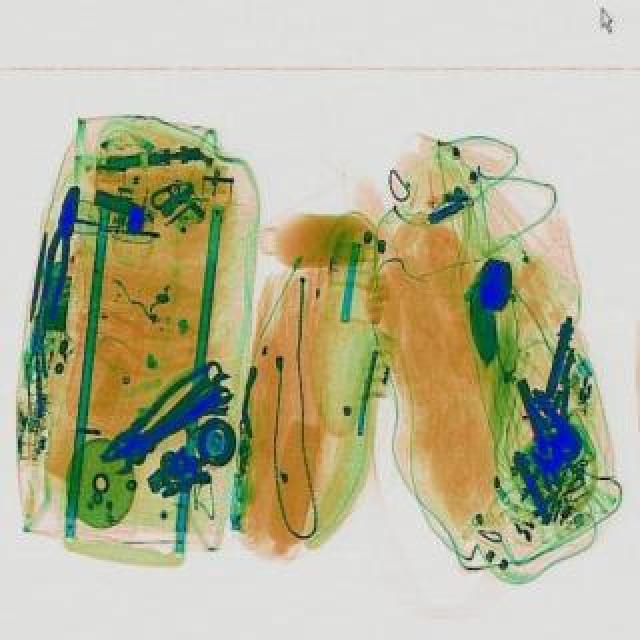scissors: (102, 354, 230, 474)
wrench: (90, 364, 222, 474), (34, 180, 86, 314)
